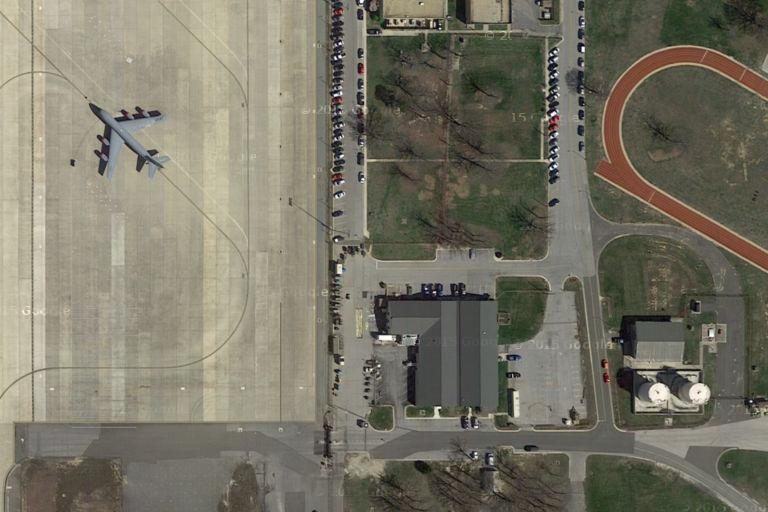KC-135: (92, 105, 174, 182)
